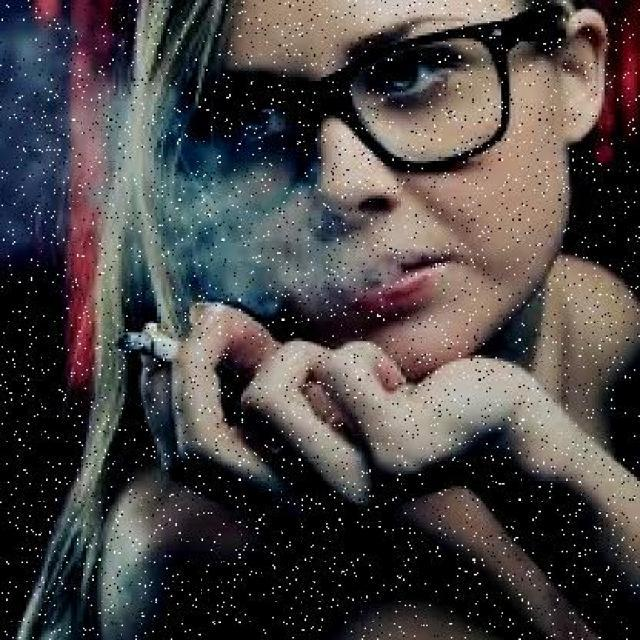glasses: (158, 10, 526, 218)
